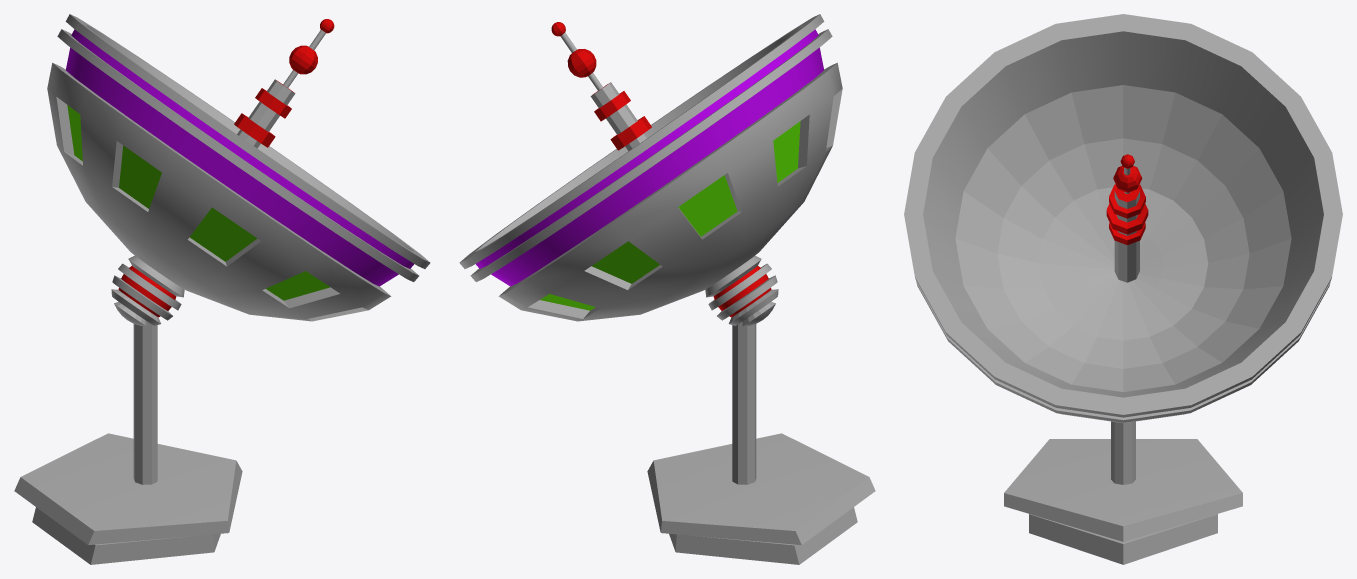
Rendered from SatelliteDish_fbx.fbx.
3 views of the same model, side by side, from view 1: azimuth 30°, elevation 25°; view 2: azimuth 150°, elevation 25°; view 3: azimuth 270°, elevation 25° (orthographic).
Visible parts, largest first — view 1: satelliteDish; view 2: satelliteDish; view 3: satelliteDish.
Part boxes in pixels (x1=…): satelliteDish: x1=14, y1=14, x2=430, y2=564; satelliteDish: x1=459, y1=14, x2=875, y2=564; satelliteDish: x1=904, y1=14, x2=1342, y2=564.
Size of the model in its own units: 63.96 by 87.39 by 70.99.
